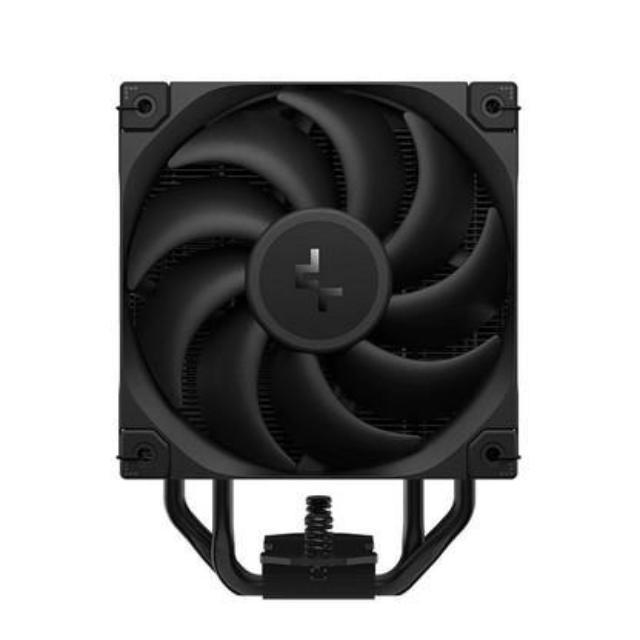CPU_Fan: (120, 80, 520, 602)
